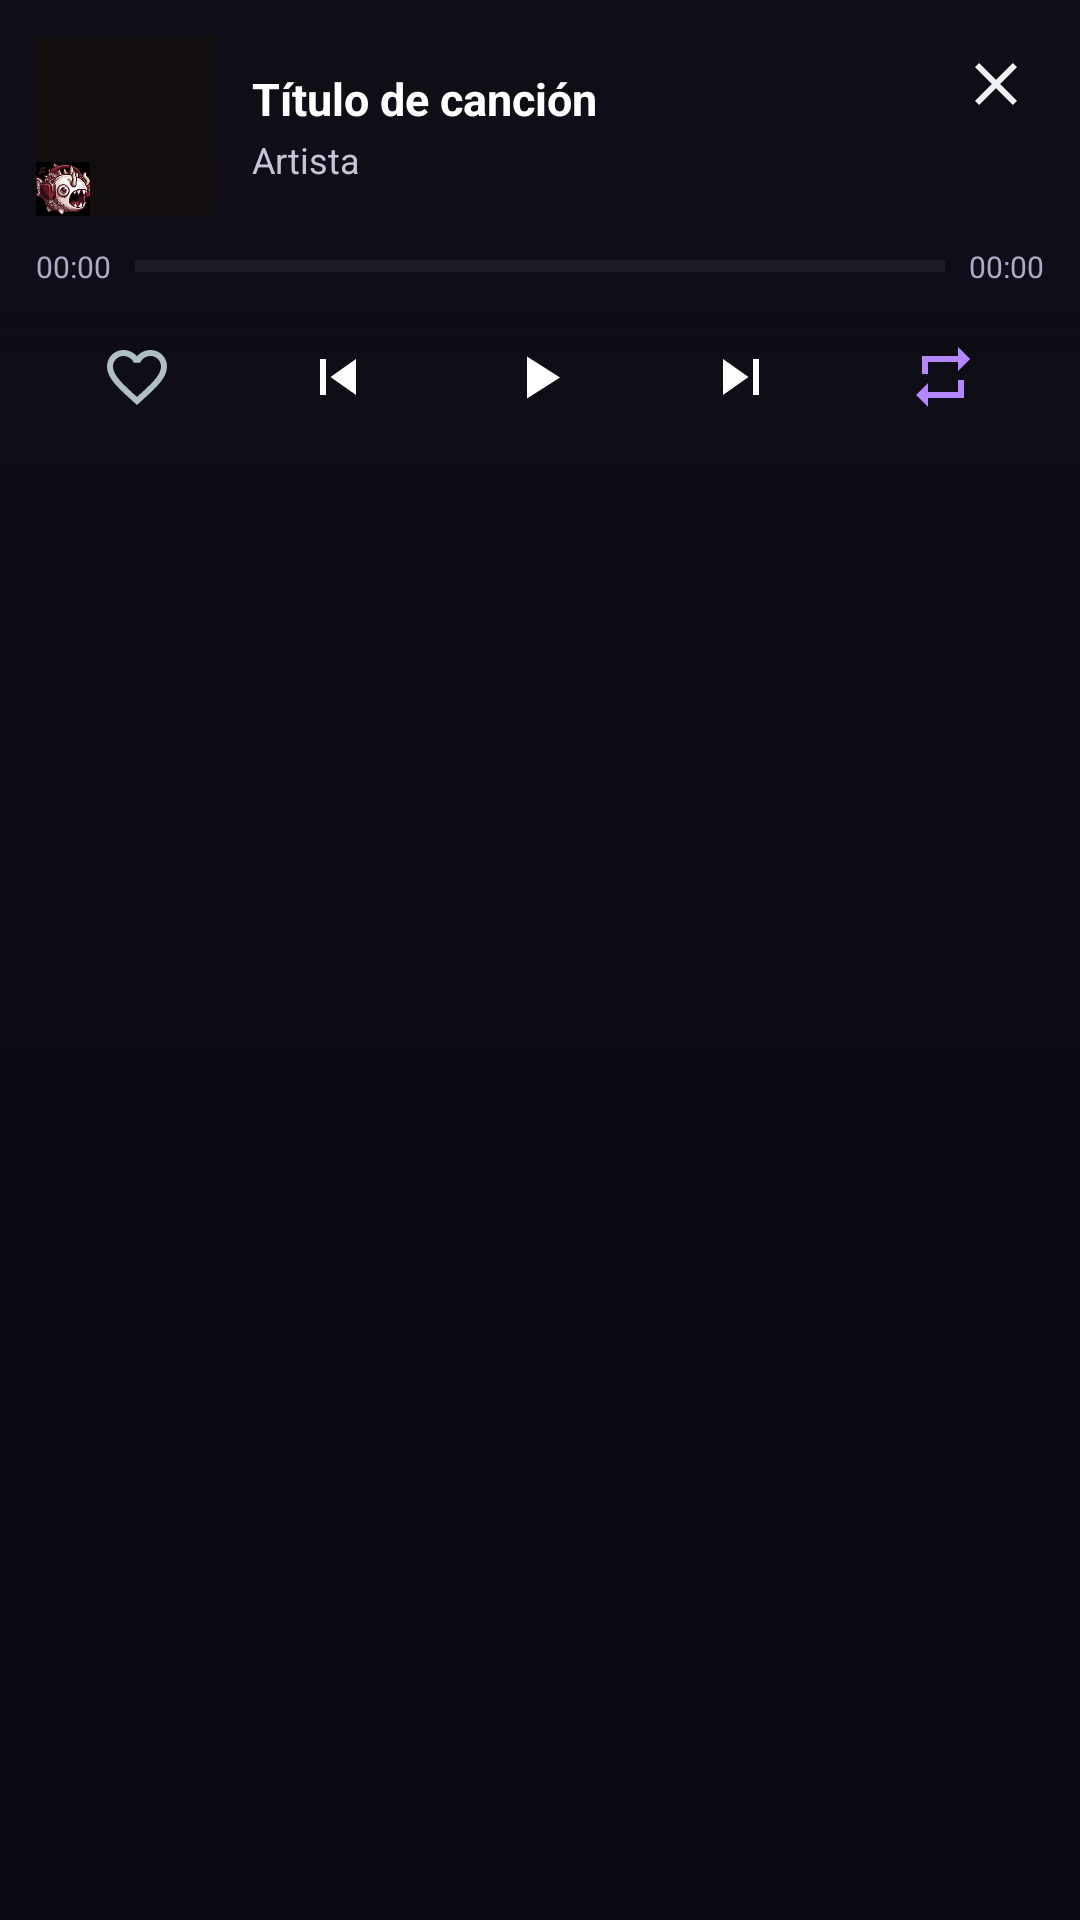

Where icons sit on this 1080 × 1920 app screen, as {"x1": x1, "y1": y1, "x2": x2, "y2": y2}:
Anterior: {"x1": 320, "y1": 359, "x2": 356, "y2": 395}
Cerrar notificación: {"x1": 975, "y1": 63, "x2": 1017, "y2": 105}
Favorito: {"x1": 107, "y1": 350, "x2": 167, "y2": 405}
Modo de reproducción: {"x1": 916, "y1": 347, "x2": 970, "y2": 407}
Reproducir / Pausa: {"x1": 527, "y1": 356, "x2": 560, "y2": 399}
Siguiente: {"x1": 723, "y1": 359, "x2": 759, "y2": 395}
